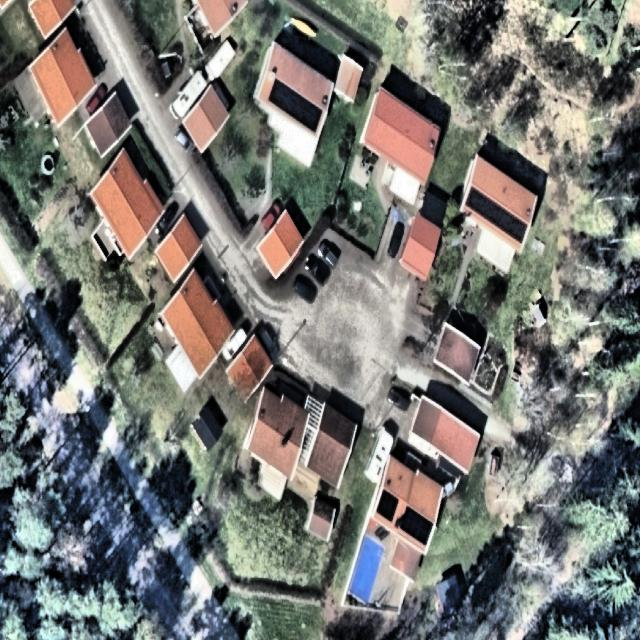roof_pv: (496, 200, 530, 247), (400, 506, 434, 546), (268, 78, 296, 122), (296, 92, 324, 136), (467, 188, 495, 230), (376, 492, 398, 524)
